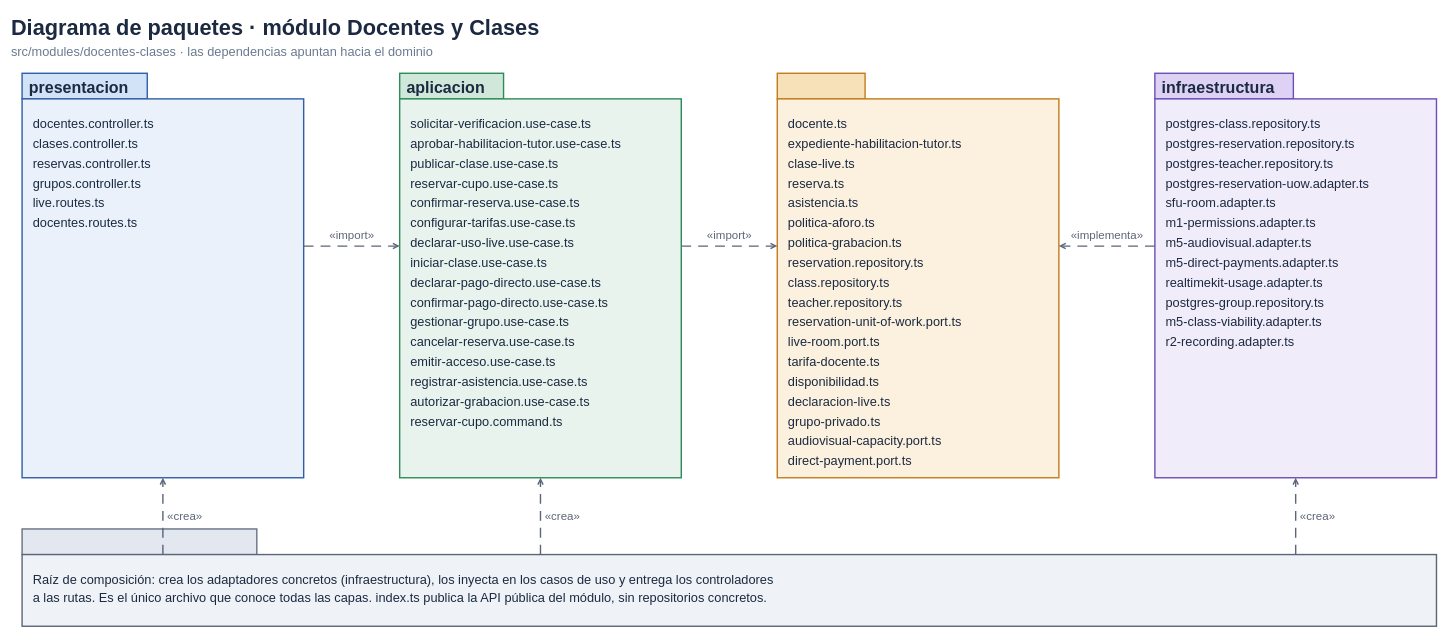
Image size: 1448x638. Some labels were removed from this diagram. The centre of each missing label's shape, as x and y in pixels:
"docentes-clases.module.ts" goes at (139,541).
"dominio" goes at (820,85).
